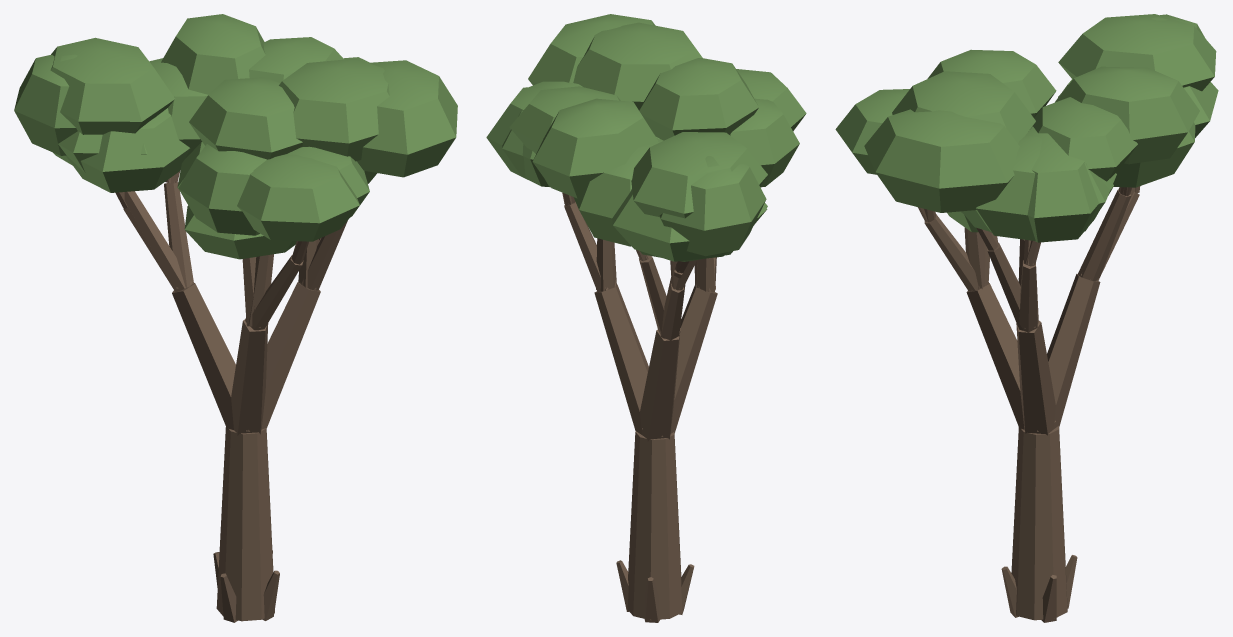
Rendered from tree_oak.glb.
3 renders of one model, left to right at view 1: azimuth 30°, elevation 25°; view 2: azimuth 150°, elevation 25°; view 3: azimuth 270°, elevation 25°, orthographic. The views are drawn at different scales.
Visible parts, largest first — view 1: tree_oak; view 2: tree_oak; view 3: tree_oak.
Boxes of the visible parts, left/top/right/bottom form: tree_oak: left=14, top=14, right=457, bottom=622; tree_oak: left=486, top=14, right=806, bottom=622; tree_oak: left=835, top=14, right=1218, bottom=622.
Bounding box in the file's own units: 5.6 × 9.16 × 5.73.
